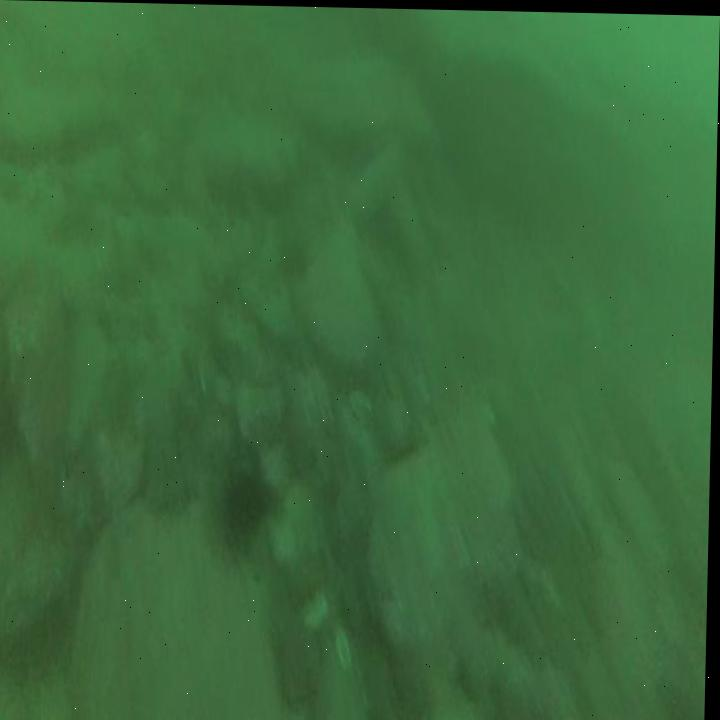echinus: (223, 457, 276, 551)
